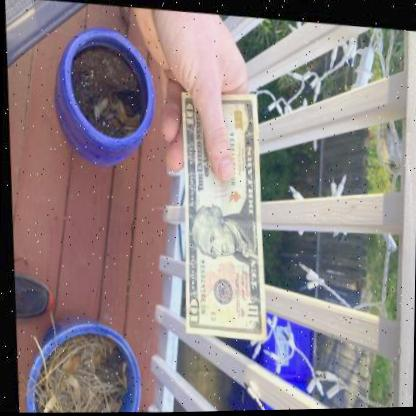dollar_front: (173, 86, 266, 338)
